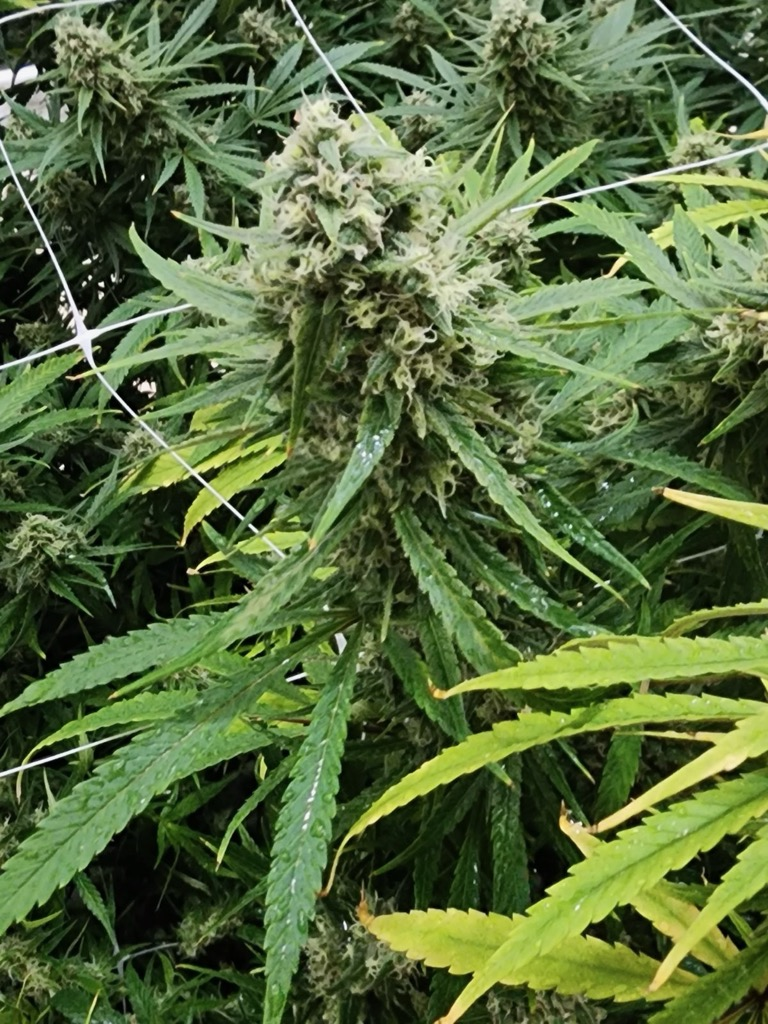Bud: (242, 75, 511, 424), (469, 6, 585, 127), (58, 30, 147, 105), (4, 511, 87, 590), (662, 132, 745, 192), (227, 11, 287, 43)
Leaf: (428, 744, 755, 1023), (0, 695, 243, 932), (260, 615, 372, 1017), (418, 407, 626, 610), (420, 623, 767, 712), (547, 192, 724, 330), (507, 445, 658, 602), (0, 605, 268, 691), (112, 222, 257, 331), (156, 445, 301, 543), (296, 428, 393, 547), (652, 471, 766, 544)
